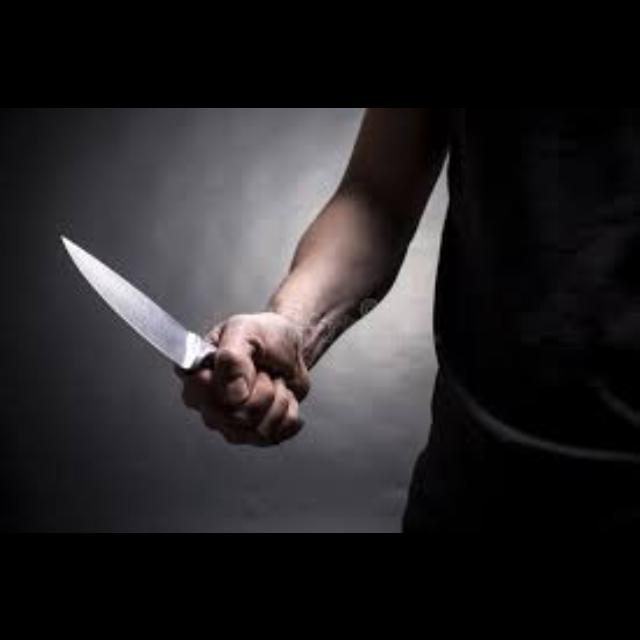Knife: (58, 230, 216, 370)
Person: (218, 110, 640, 532)
Weapon Holding: (185, 326, 312, 442)
